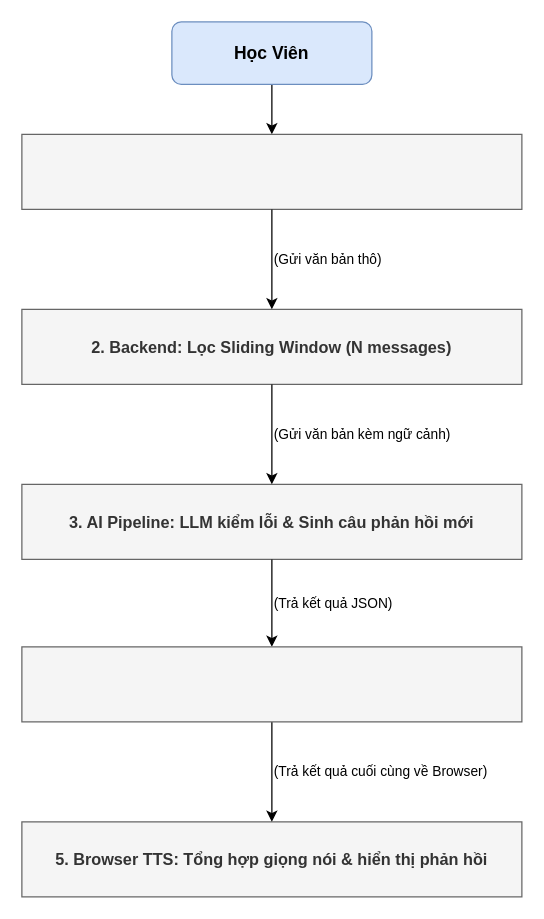
Image size: 544x919. Some labels were removed from this diagram. Each missing label, with the centre of its shape:
"1. Browser STT: Chuyển giọng nói -> Text ngay tại máy" goes at (x=271, y=171).
"4. Backend: Lưu hội thoại & Chuẩn hoá dữ liệu" goes at (x=271, y=684).
